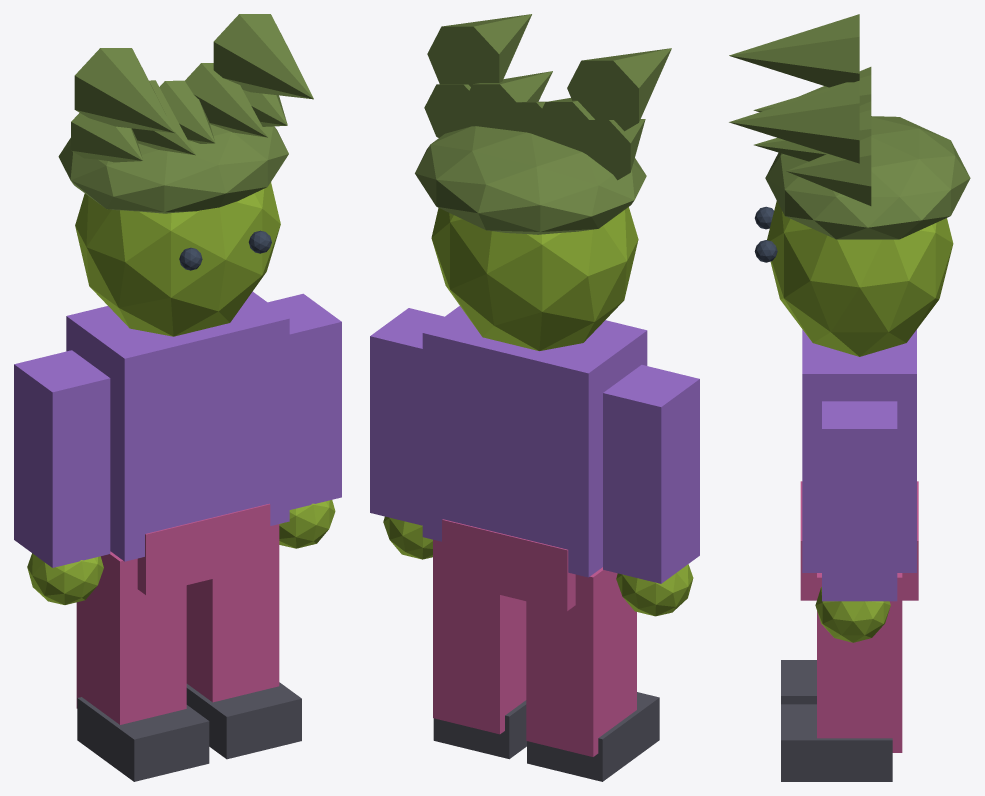
Rendered from piccolo.glb.
3 views of the same model, side by side, from view 1: azimuth 30°, elevation 25°; view 2: azimuth 150°, elevation 25°; view 3: azimuth 270°, elevation 25° (orthographic). The views are drawn at different scales.
Parts seen in each view (by area): view 1: part_000, part_010, part_002, part_004, part_013, part_008, part_006, part_001, part_005, part_009, part_019, part_020 (+7 smaller); view 2: part_000, part_010, part_002, part_013, part_004, part_008, part_006, part_001, part_019, part_020, part_005, part_017 (+7 smaller); view 3: part_010, part_006, part_013, part_000, part_008, part_009, part_020, part_019, part_018, part_007, part_005, part_001 (+2 smaller).
Boxes of the visible parts, left/top/right/bottom form: part_000: left=66, top=291, right=289, bottom=561; part_010: left=75, top=182, right=280, bottom=336; part_002: left=14, top=350, right=110, bottom=567; part_004: left=76, top=551, right=186, bottom=724; part_013: left=58, top=124, right=288, bottom=213; part_008: left=186, top=524, right=279, bottom=702; part_006: left=268, top=293, right=341, bottom=509; part_001: left=137, top=503, right=270, bottom=594; part_005: left=77, top=697, right=209, bottom=781; part_009: left=186, top=682, right=301, bottom=759; part_019: left=74, top=48, right=174, bottom=133; part_020: left=213, top=14, right=313, bottom=99; part_000: left=422, top=306, right=647, bottom=577; part_010: left=431, top=207, right=638, bottom=350; part_002: left=603, top=365, right=699, bottom=583; part_013: left=415, top=126, right=646, bottom=234; part_004: left=526, top=567, right=636, bottom=756; part_008: left=433, top=539, right=526, bottom=734; part_006: left=370, top=308, right=444, bottom=525; part_001: left=442, top=519, right=575, bottom=611; part_019: left=567, top=48, right=671, bottom=131; part_020: left=427, top=14, right=531, bottom=86; part_005: left=527, top=692, right=659, bottom=781; part_017: left=461, top=71, right=552, bottom=131; part_010: left=767, top=201, right=953, bottom=356; part_006: left=822, top=401, right=897, bottom=601; part_013: left=765, top=116, right=970, bottom=239; part_000: left=802, top=329, right=916, bottom=572; part_008: left=817, top=573, right=902, bottom=752; part_009: left=781, top=704, right=892, bottom=781; part_020: left=729, top=80, right=859, bottom=163; part_019: left=729, top=14, right=859, bottom=87; part_018: left=786, top=136, right=871, bottom=205; part_007: left=815, top=587, right=890, bottom=642; part_005: left=781, top=660, right=816, bottom=704; part_001: left=800, top=481, right=918, bottom=600.
Size of the model in its own units: 1.03 by 2.32 by 0.7378.
